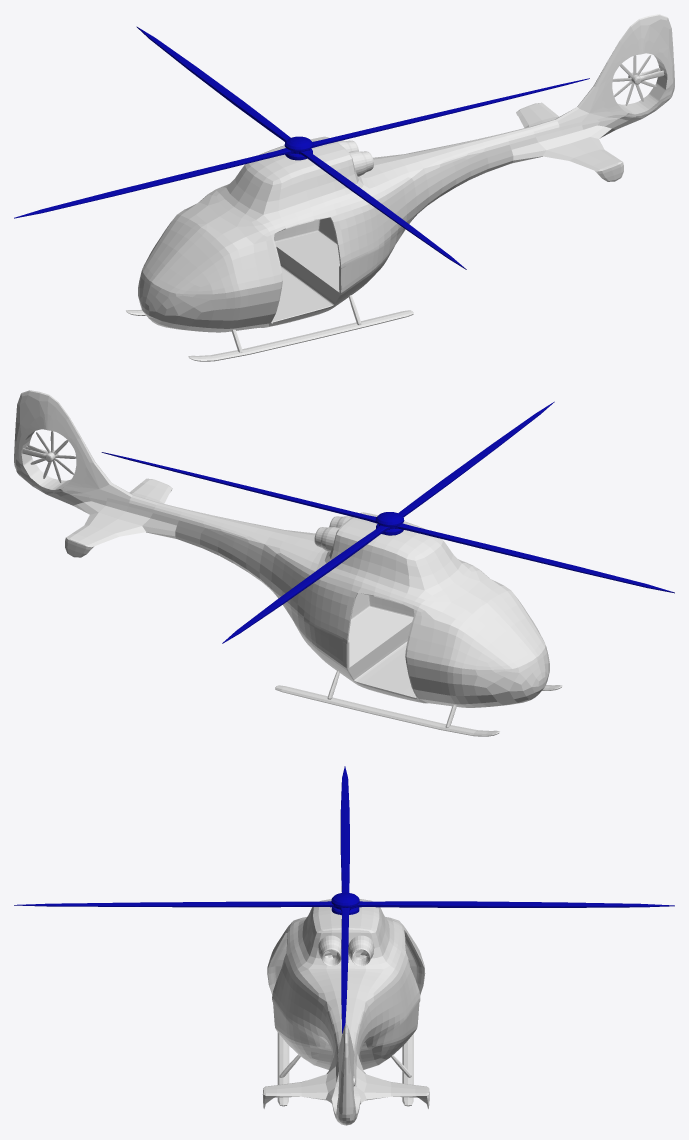
Rendered from elicottero.fbx.
3 views of the same model, one above another, from view 1: azimuth 30°, elevation 25°; view 2: azimuth 150°, elevation 25°; view 3: azimuth 270°, elevation 25° (orthographic).
Parts seen in each view (by area): view 1: Copter, Propeller_1.000, Legs, Propeller; view 2: Copter, Propeller_1.000, Legs, Propeller; view 3: Copter, Propeller_1.000, Legs.
Boxes of the visible parts, x1,y1,x2,y2 form: Copter: (138,14,674,332); Propeller_1.000: (14,26,589,269); Legs: (126,295,413,361); Propeller: (612,55,659,105); Copter: (14,390,549,707); Propeller_1.000: (101,401,674,643); Legs: (275,670,562,736); Propeller: (27,431,76,482); Copter: (262,899,429,1125); Propeller_1.000: (14,766,674,1033); Legs: (277,1032,413,1106).
Bounding box in the file's own units: 1302 × 395 × 1131.
